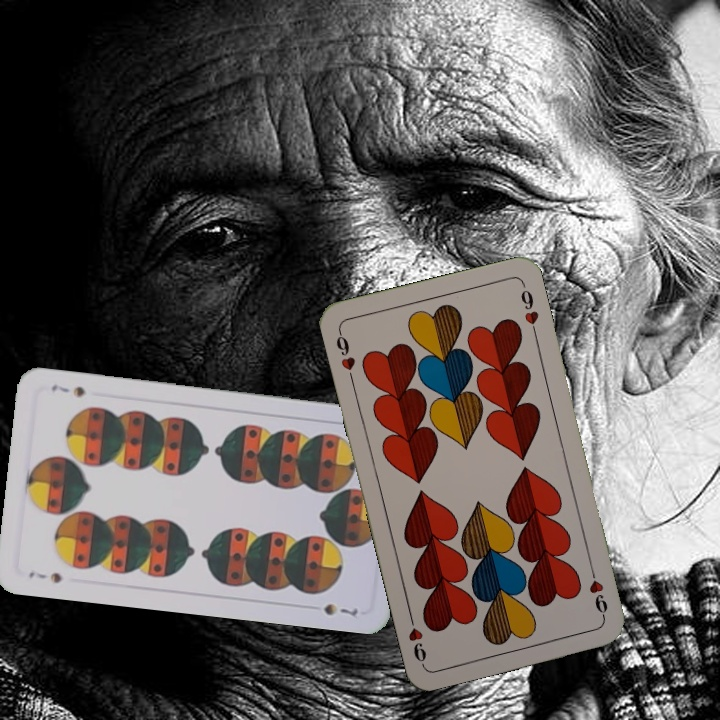H9: (332, 326, 358, 385), (585, 562, 611, 621)
S7: (25, 566, 65, 586)
